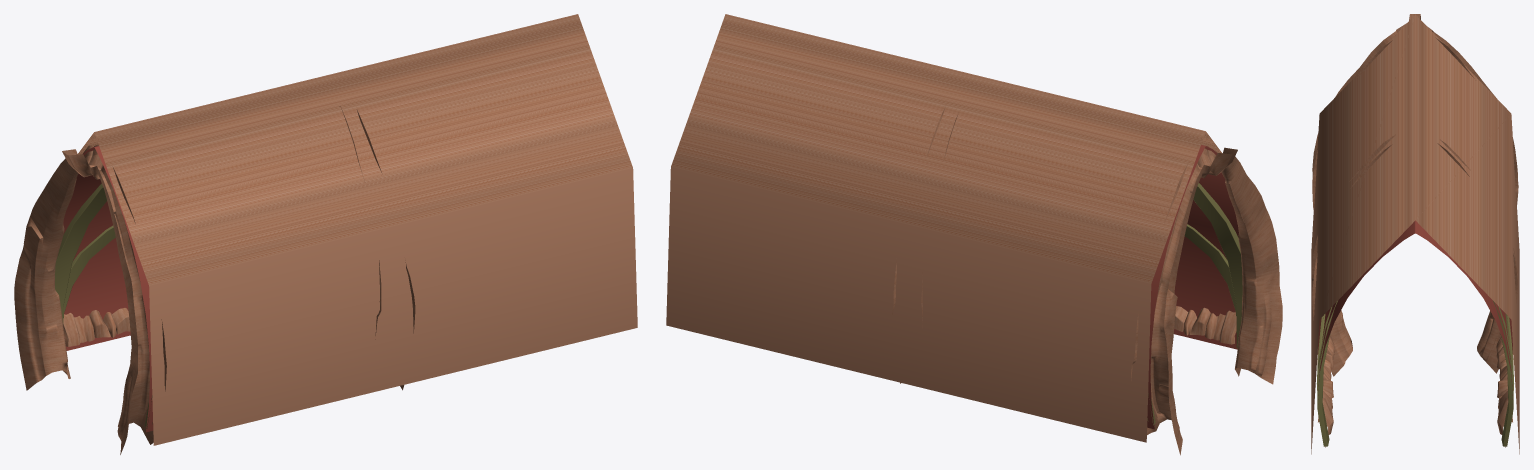
File: Geonosis_Tunnel02_StraightLong.fbx
3 renders of one model, left to right at view 1: azimuth 30°, elevation 25°; view 2: azimuth 150°, elevation 25°; view 3: azimuth 270°, elevation 25°, orthographic. The views are drawn at different scales.
Visible parts, largest first — view 1: Geonosis_Tunnel02_Long; view 2: Geonosis_Tunnel02_Long; view 3: Geonosis_Tunnel02_Long.
Part boxes in pixels (x1,y1,x2,y2): Geonosis_Tunnel02_Long: [14, 14, 637, 454]; Geonosis_Tunnel02_Long: [666, 14, 1282, 455]; Geonosis_Tunnel02_Long: [1311, 14, 1519, 454].
Size of the model in its own units: 1064 by 569 by 427.
